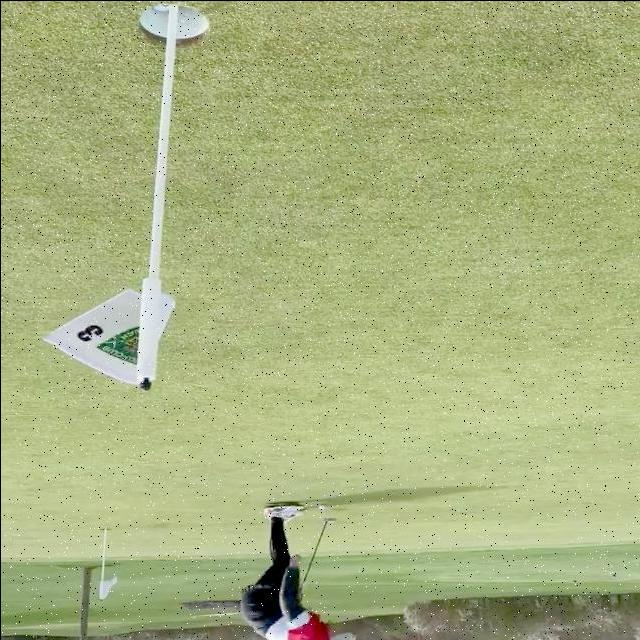golf ball: (318, 503, 324, 509)
golf club-handle: (298, 515, 336, 591)
golf club-head: (322, 517, 335, 523)
